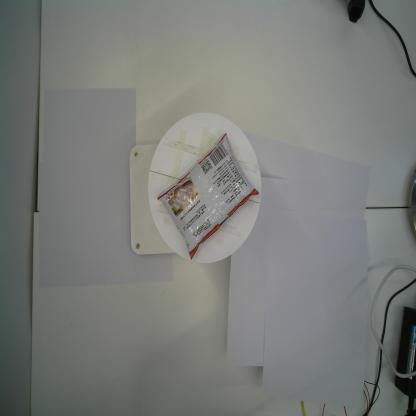Seasoner: (158, 133, 260, 260)
